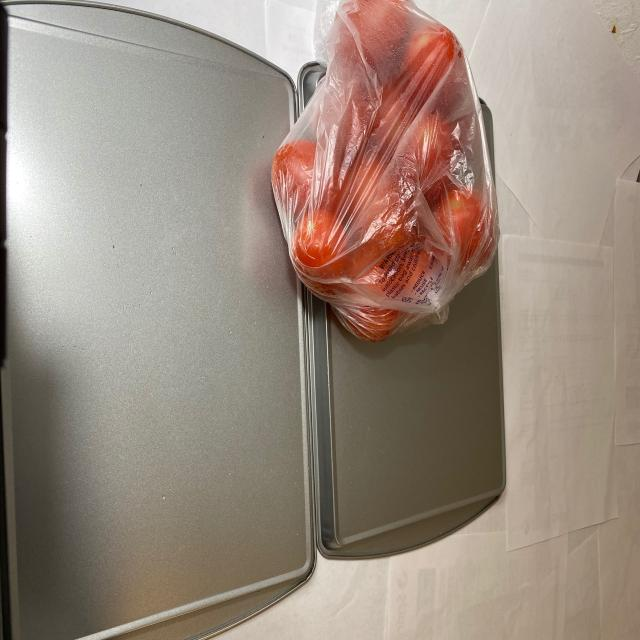tomato: (277, 0, 497, 342)
